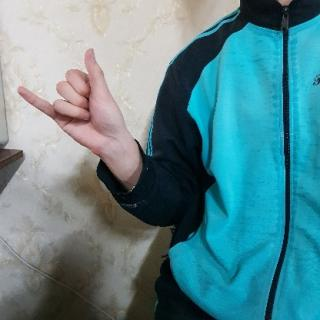YA: (16, 46, 128, 158)
